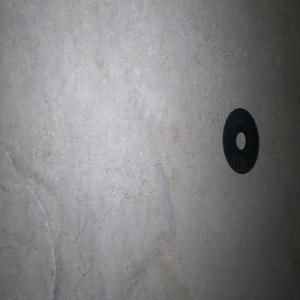Washer: (222, 107, 259, 174)
